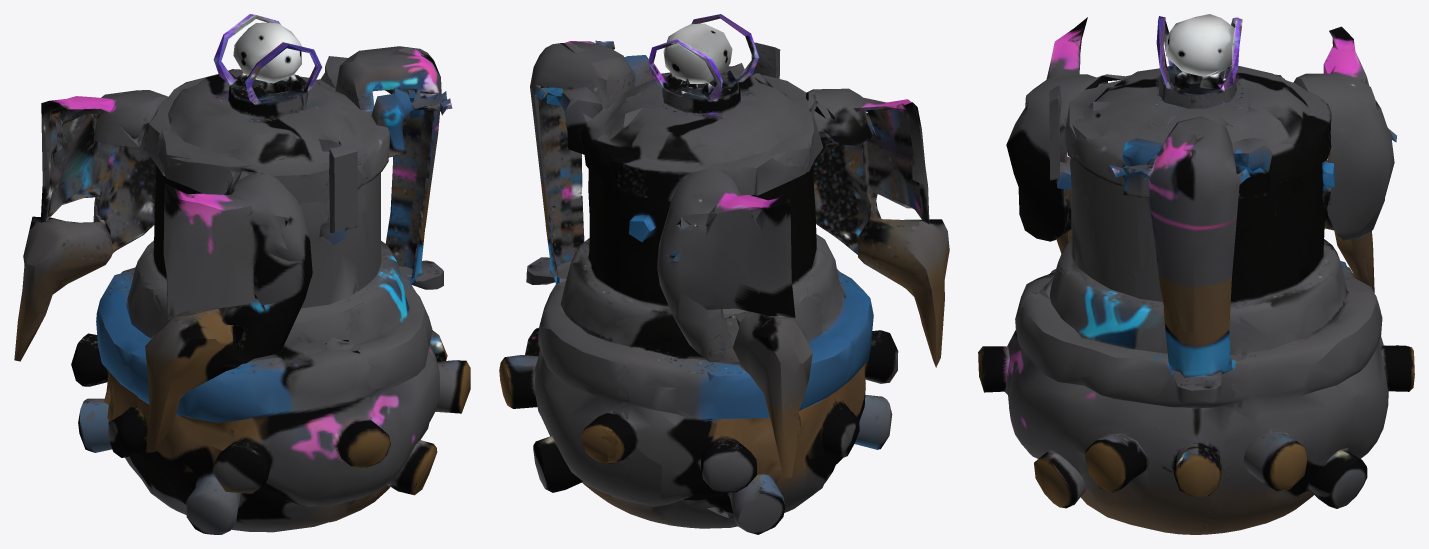
The model's file is jinx-granade-clean_parts_web.glb.
3 renders of one model, left to right at view 1: azimuth 30°, elevation 25°; view 2: azimuth 150°, elevation 25°; view 3: azimuth 270°, elevation 25°, orthographic. The views are drawn at different scales.
Visible parts, largest first — view 1: part_00; view 2: part_00; view 3: part_00.
Part boxes in pixels (x1=…): part_00: x1=14, y1=14, x2=470, y2=534; part_00: x1=499, y1=14, x2=949, y2=534; part_00: x1=978, y1=14, x2=1414, y2=534.
Size of the model in its own units: 1.52 by 1.99 by 1.59.
Materials: 8 (8 with a texture image).
